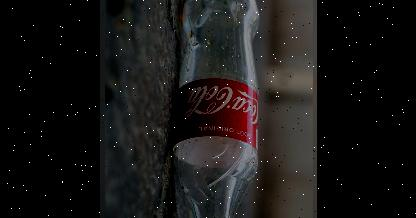Plastic Bottle: (171, 0, 258, 218)
